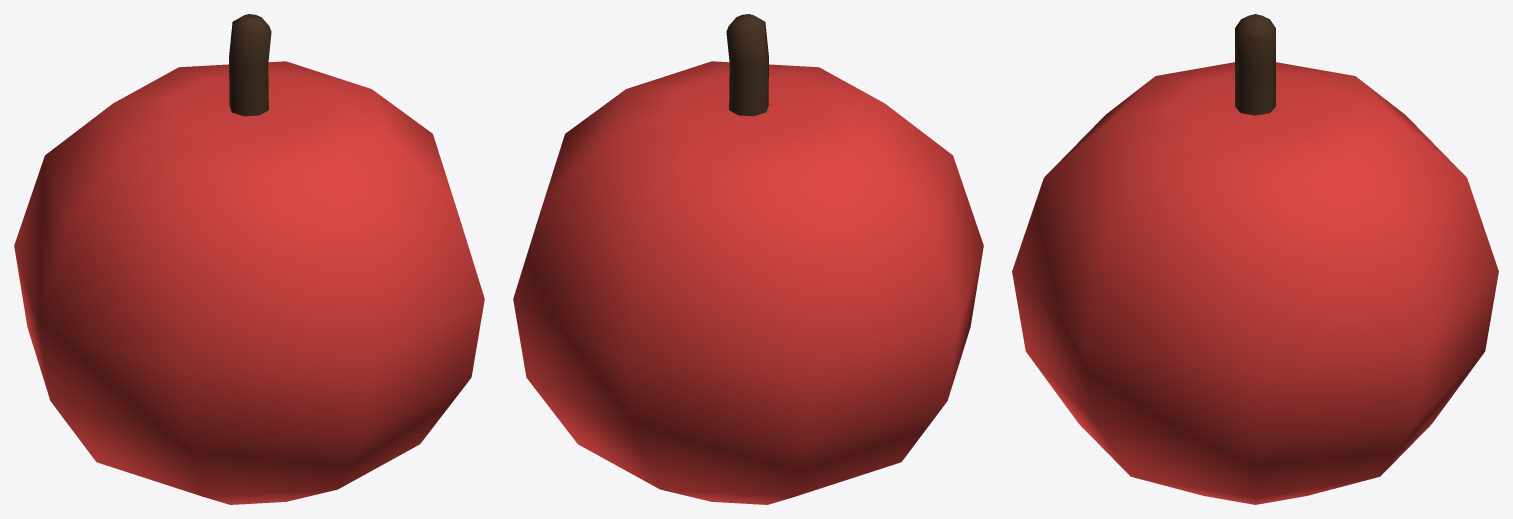
The model's file is Apple_01_Red.fbx.
3 renders of one model, left to right at view 1: azimuth 30°, elevation 25°; view 2: azimuth 150°, elevation 25°; view 3: azimuth 270°, elevation 25°, orthographic.
Visible parts, largest first — view 1: Apple_01_Red; view 2: Apple_01_Red; view 3: Apple_01_Red.
Part boxes in pixels (bbox=[...]): Apple_01_Red: bbox=[14, 14, 484, 504]; Apple_01_Red: bbox=[513, 14, 983, 504]; Apple_01_Red: bbox=[1012, 14, 1498, 504].
Size of the model in its own units: 0.2388 by 0.2477 by 0.2388.
